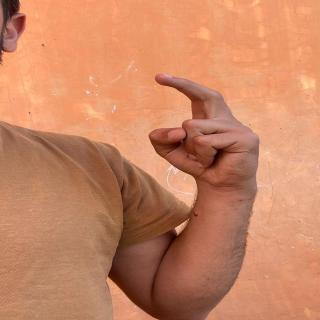ZAY: (116, 70, 300, 192)
